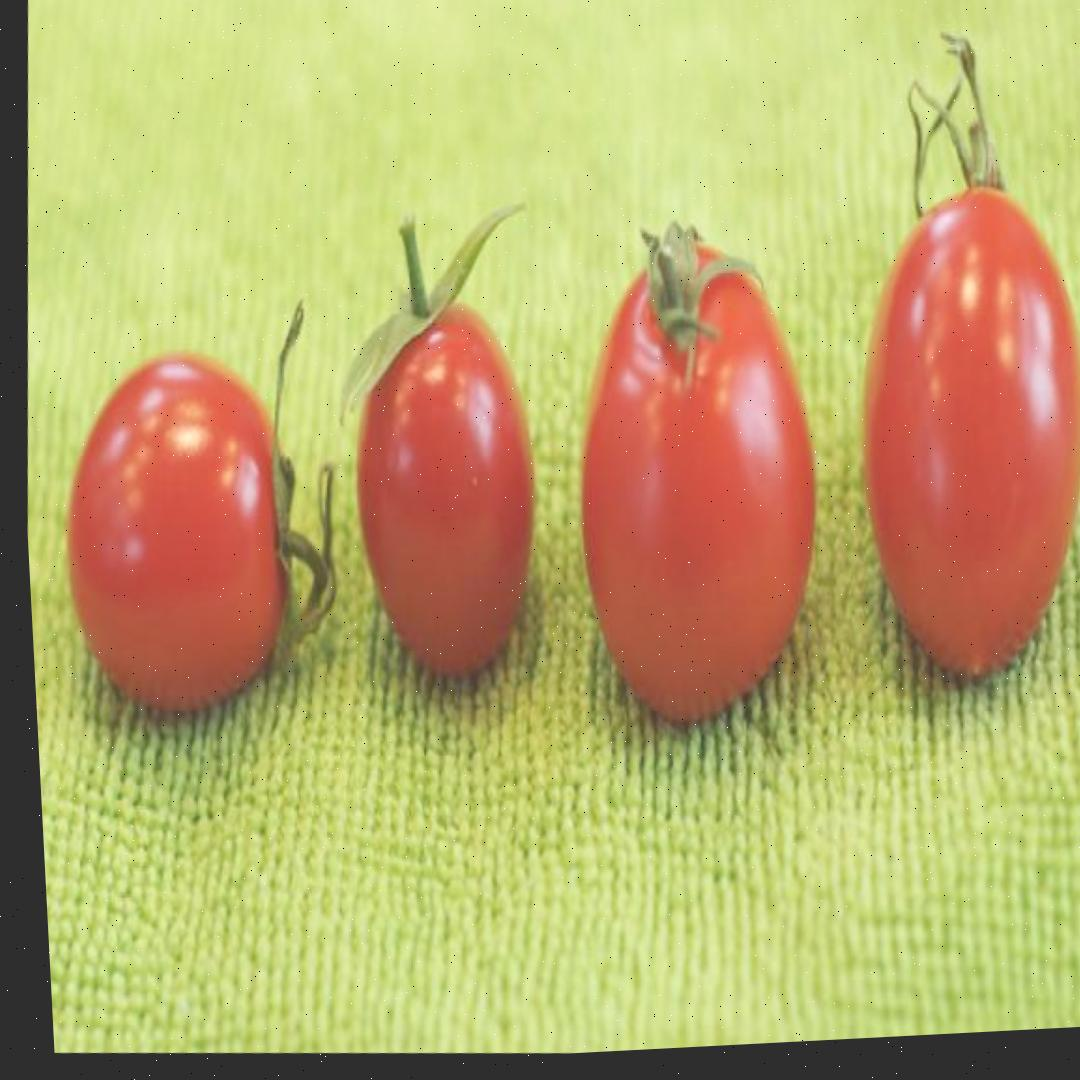matang: (830, 12, 1080, 686), (554, 204, 845, 736), (46, 283, 356, 726), (319, 190, 563, 692)
